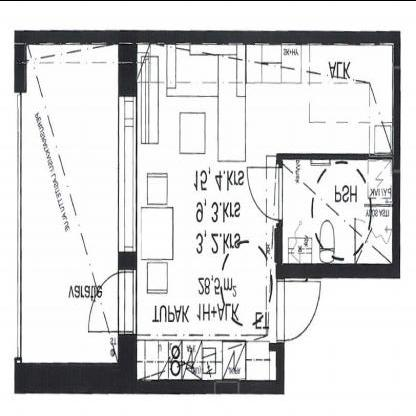door: (85, 264, 138, 340), (272, 273, 324, 348), (246, 160, 285, 232)
window: (114, 91, 140, 257)
